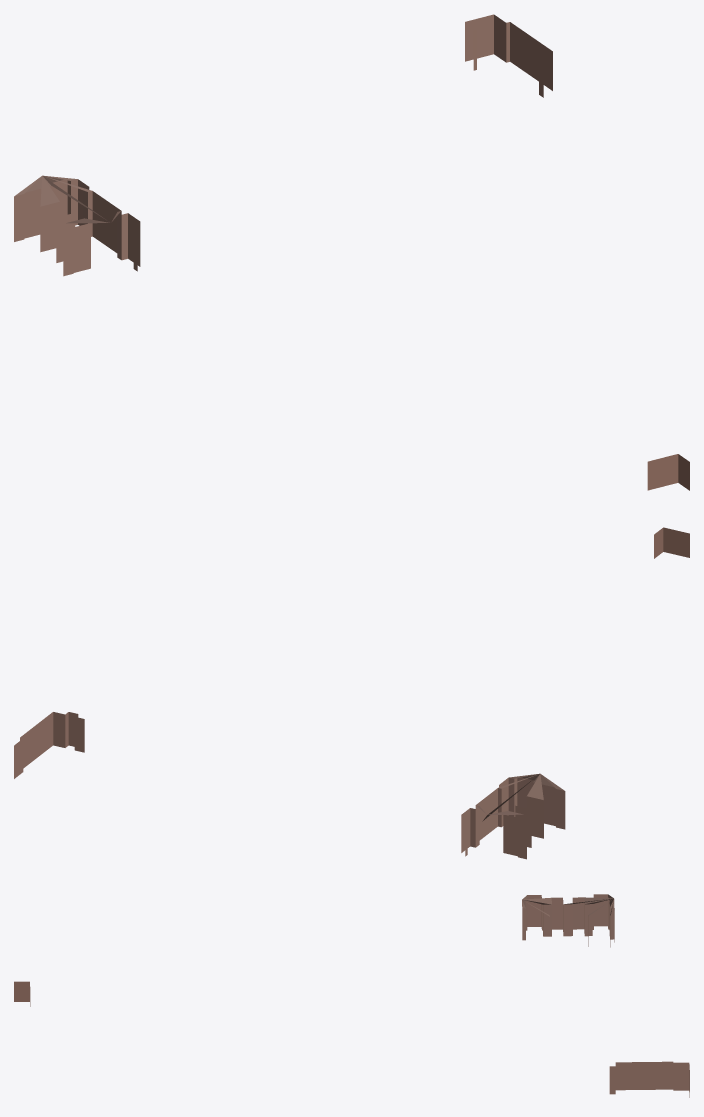
The model's file is c_1636_17827_buildings_residential.glb.
3 views of the same model, one above another, from view 1: azimuth 30°, elevation 25°; view 2: azimuth 150°, elevation 25°; view 3: azimuth 270°, elevation 25° (orthographic). The views are drawn at different scales.
Visible parts, largest first — view 1: geometry_0; view 2: geometry_0; view 3: geometry_0.
Part boxes in pixels (x1,y1,x2,y2): geometry_0: [14, 14, 689, 490]; geometry_0: [14, 527, 689, 859]; geometry_0: [14, 894, 689, 1097].
Bounding box in the file's own units: 157 × 15.37 × 241.
